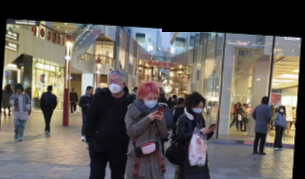with_mask: (106, 76, 124, 93), (142, 93, 158, 108), (191, 103, 203, 114), (278, 106, 285, 112), (71, 88, 75, 91)
without_mask: (87, 87, 94, 93), (170, 96, 177, 102), (15, 86, 21, 92)
